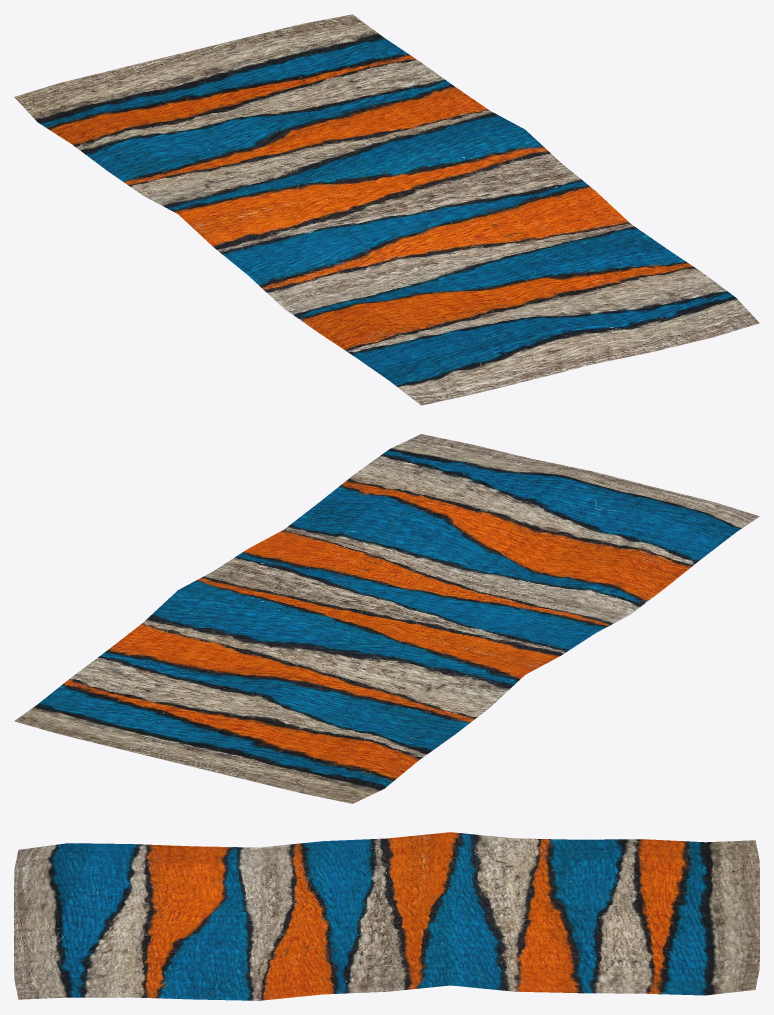
The model's file is motas1.glb.
3 renders of one model, top to bottom at view 1: azimuth 30°, elevation 25°; view 2: azimuth 150°, elevation 25°; view 3: azimuth 270°, elevation 25°, orthographic. The views are drawn at different scales.
Parts seen in each view (by area): view 1: Cube.006; view 2: Cube.006; view 3: Cube.006.
Part boxes in pixels (box(x1,y1,x2,y2)): Cube.006: box(14, 14, 759, 405); Cube.006: box(14, 434, 759, 803); Cube.006: box(14, 832, 759, 1000).
Size of the model in its own units: 0.4639 by 0.0242 by 0.9539.
1 material, 1 textured.
